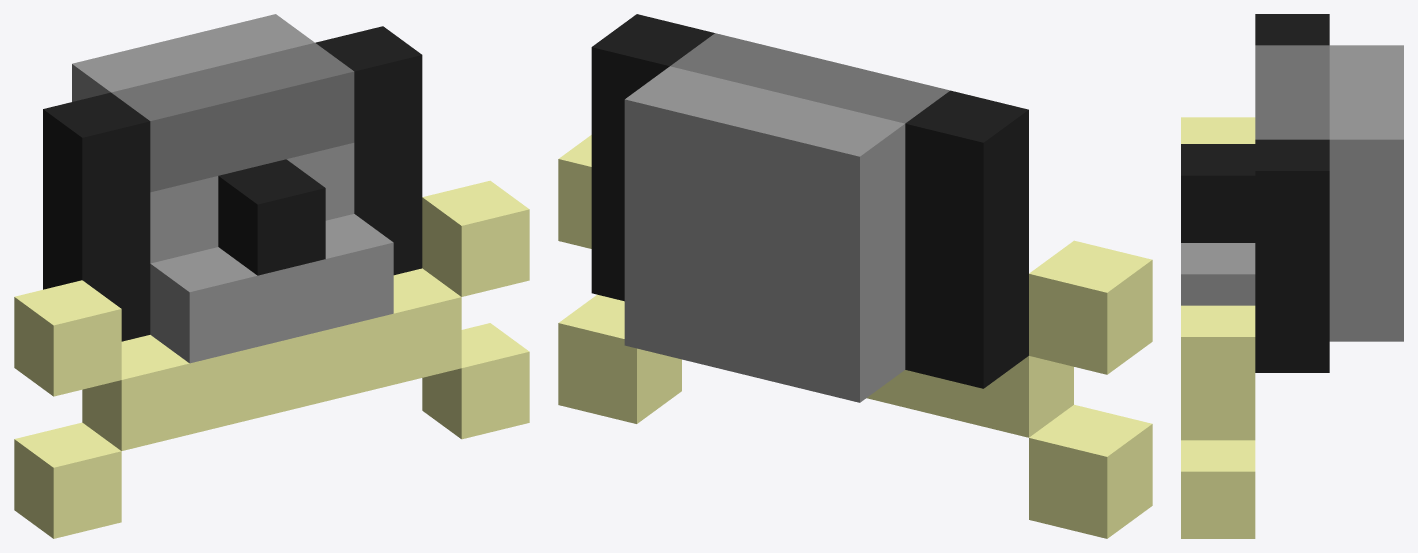
File: scummBarDog_wBone_head.obj
3 views of the same model, side by side, from view 1: azimuth 30°, elevation 25°; view 2: azimuth 150°, elevation 25°; view 3: azimuth 270°, elevation 25° (orthographic). The views are drawn at different scales.
Bounding box in the file's own units: 7 × 5 × 3.
1 material, 1 textured.
